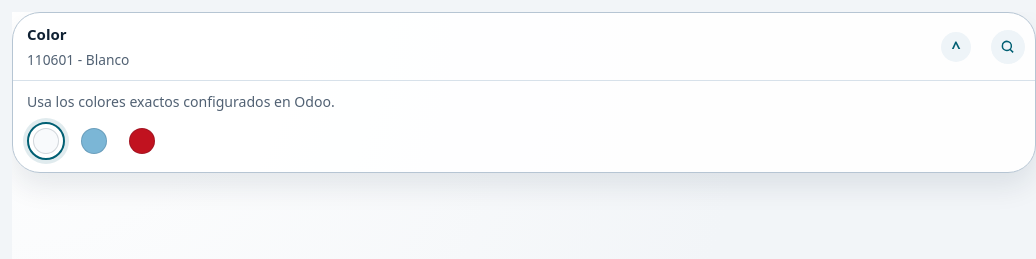
AttributeSection › filtra colores por codigo de cliente o nombre
The image size is (1036, 259).
Click the button named "buscar en color" at (1008, 47), box [991,30,1025,64]
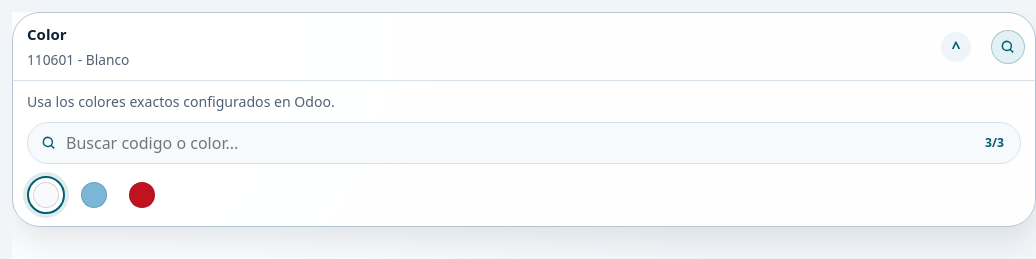
Type "146305" into the search field named "buscar codigo o color en color" at (508, 143), box [66,124,950,162]
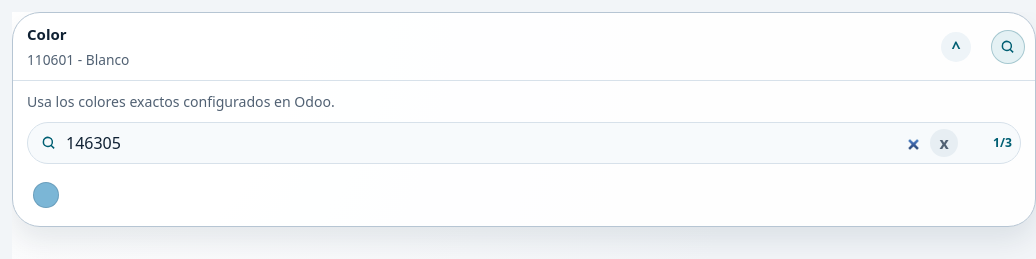
Check: the button named "146305 - azul aruba" is shown, box [27,176,65,214]
Replace the text in the search field named "buscar codigo o color en color" with "rojo" at (494, 143), box [66,124,922,162]
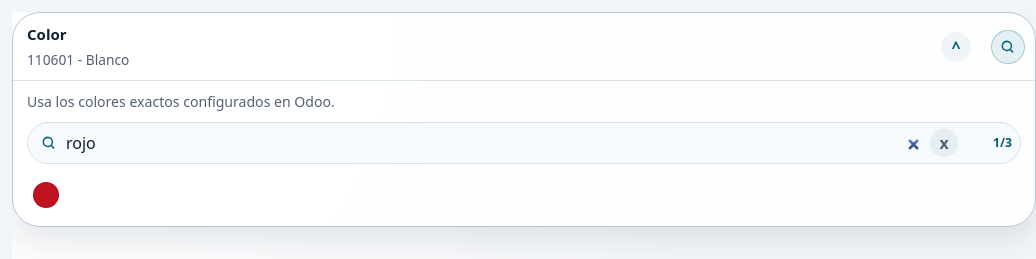
Check: the button named "154225 - rojo intenso" is shown, box [27,176,65,214]
